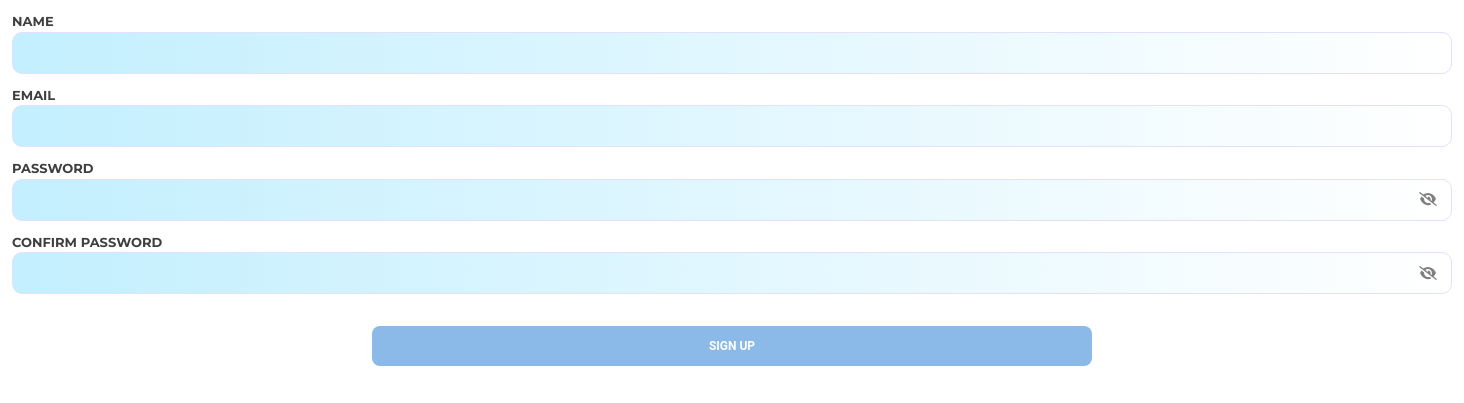
Test: Signup form › should display required error for name input on blur
Step 1. Click the field labelled "Name" → (732, 52), box [12,32,1452,74]
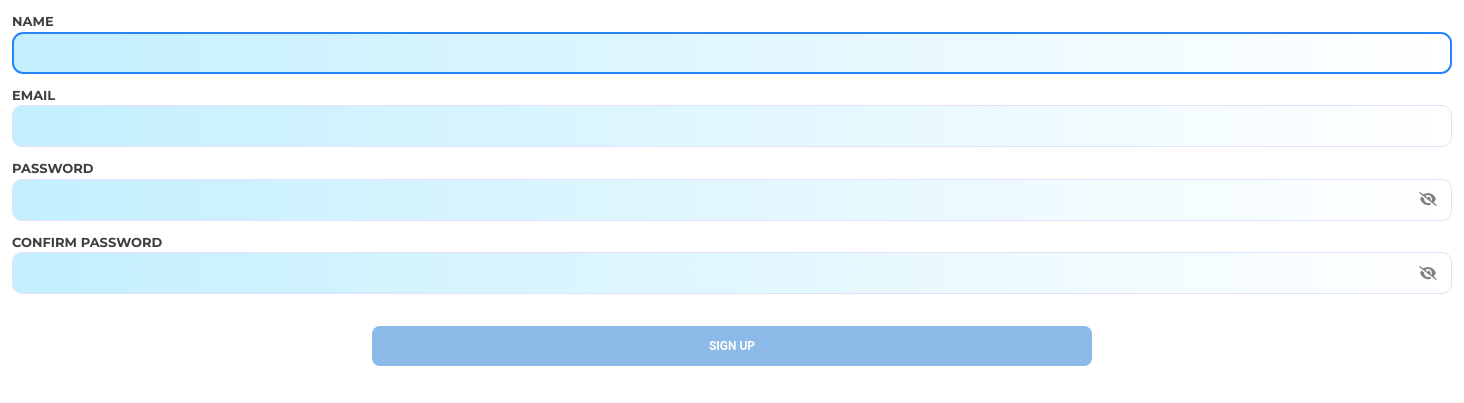
Step 2. Press Tab
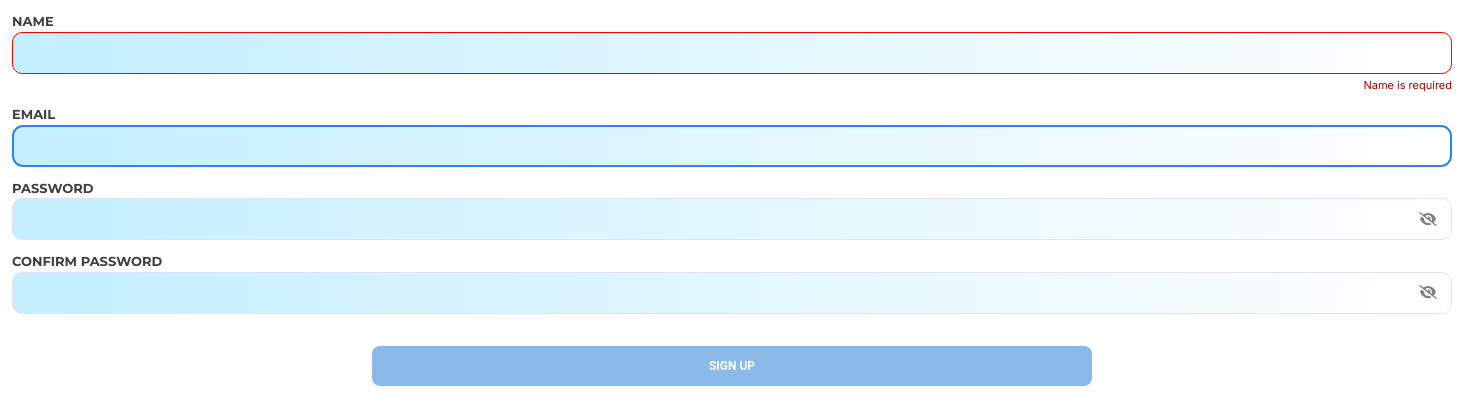
Expected: the message reads "Name is required", [1363,78,1452,92]
